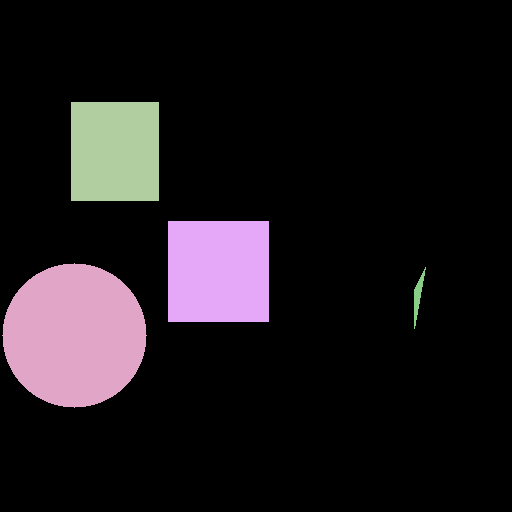circle: (2, 263, 146, 407)
rectangle: (71, 102, 158, 200)
square: (168, 221, 268, 321)
triangle: (414, 267, 425, 328)
